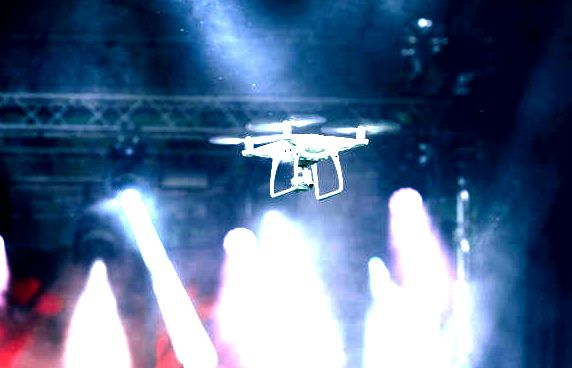Drone: (207, 108, 405, 202)
